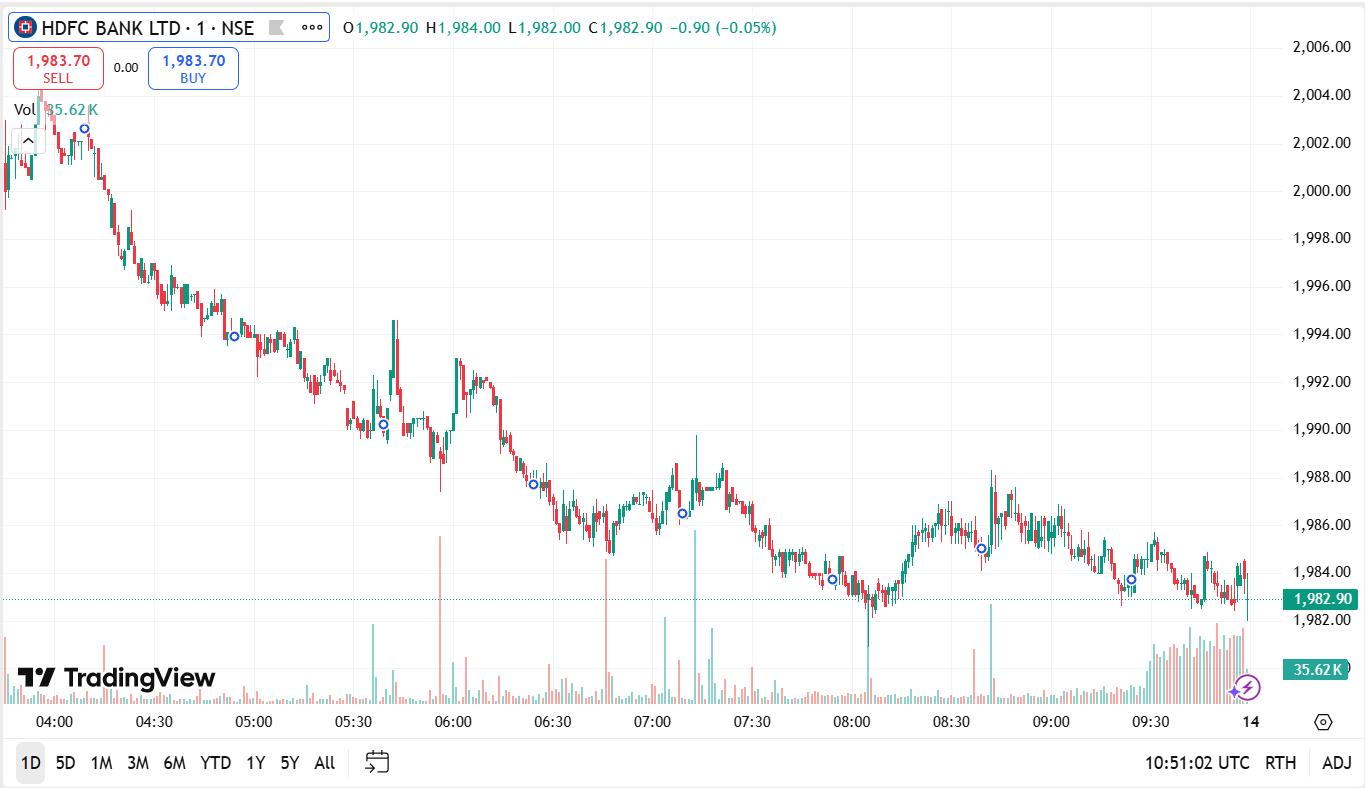Downtrend: (88, 99, 238, 351), (490, 334, 572, 576)
Sideways: (330, 309, 478, 475), (1097, 527, 1246, 615)
Uptrend: (862, 489, 928, 634)
